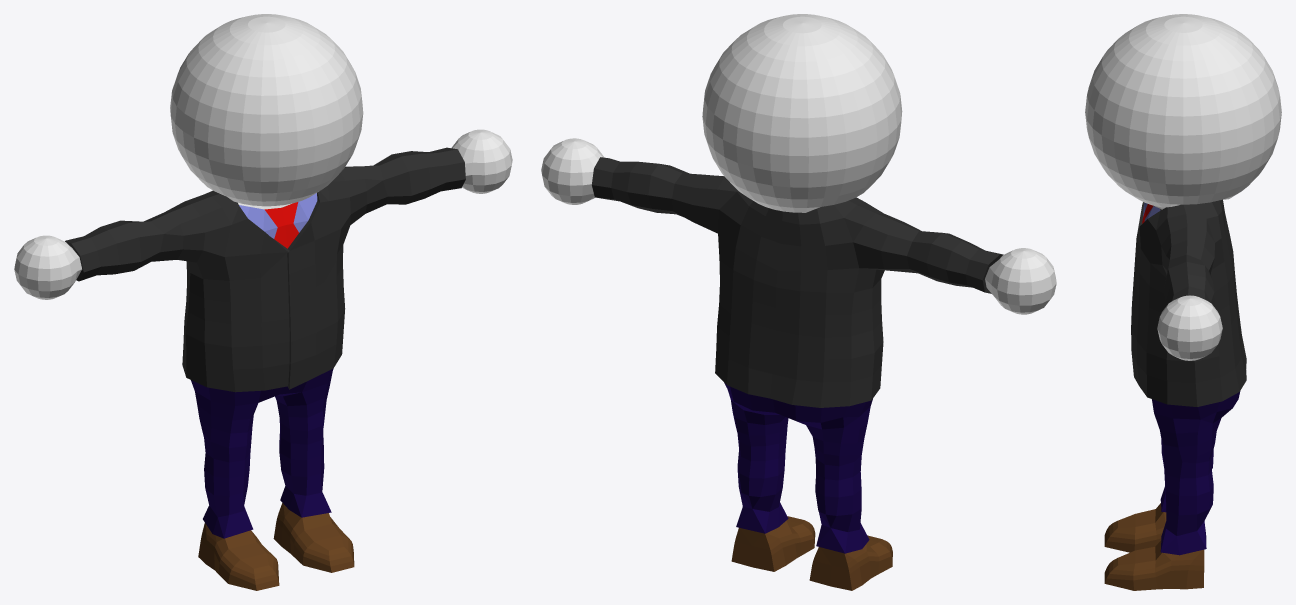
The model's file is chibi.hero.fbx.
3 renders of one model, left to right at view 1: azimuth 30°, elevation 25°; view 2: azimuth 150°, elevation 25°; view 3: azimuth 270°, elevation 25°, orthographic. The views are drawn at different scales.
Parts seen in each view (by area): view 1: hero; view 2: hero; view 3: hero.
Boxes of the visible parts, x1,y1,x2,y2 form: hero: (14,14,512,590); hero: (541,14,1056,590); hero: (1085,14,1281,590).
Size of the model in its own units: 105 by 108 by 36.
